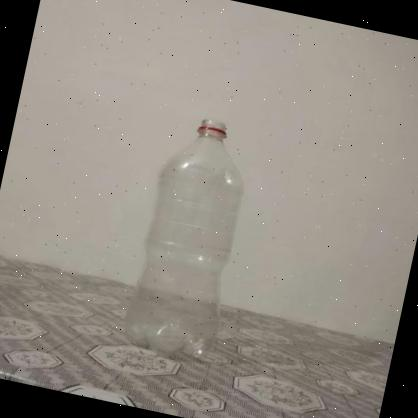bottle: (118, 108, 262, 368)
